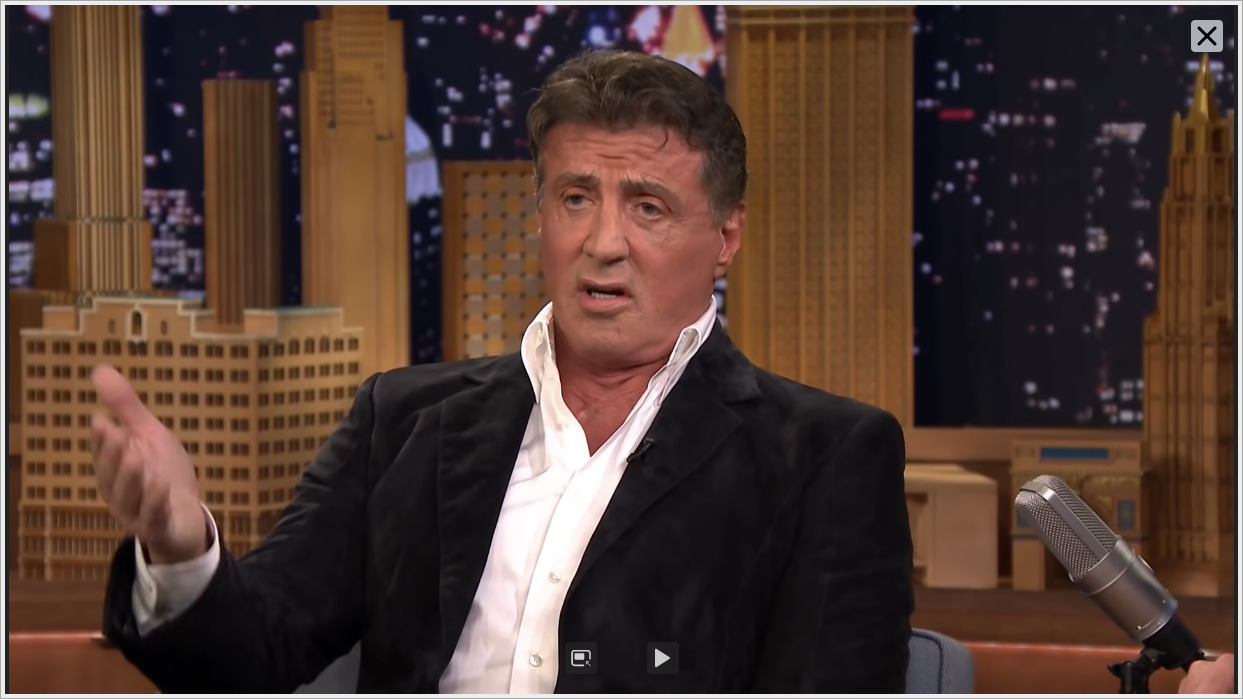hand: (84, 359, 214, 556)
